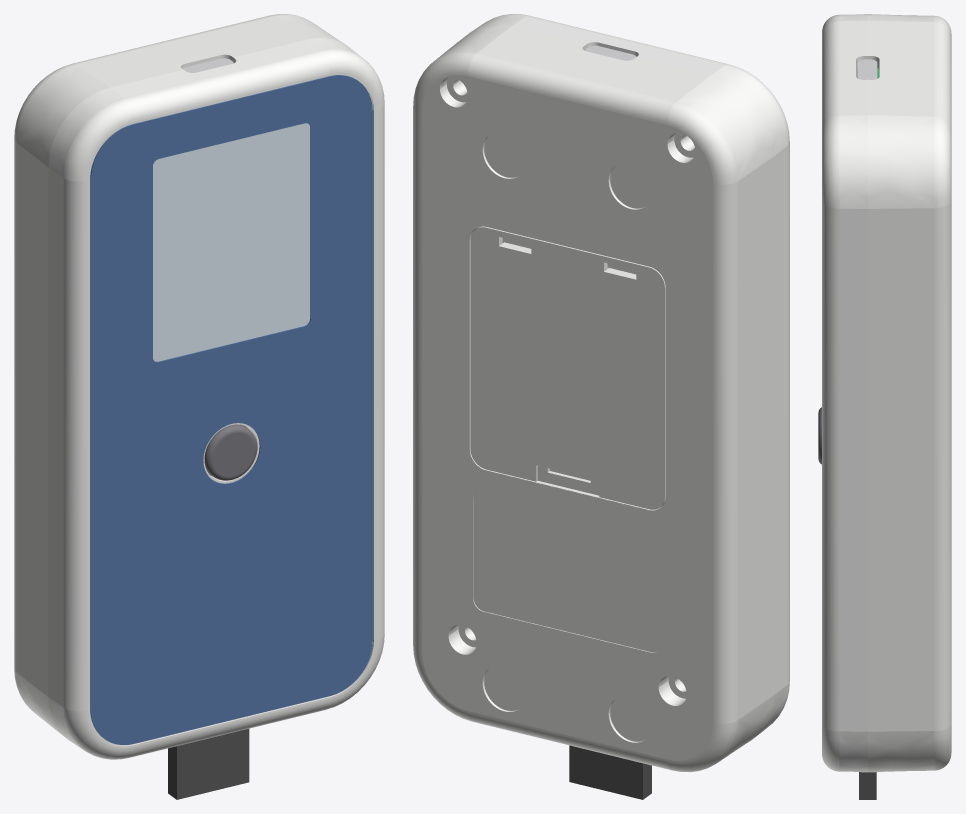
File: .HemoSure_Assembly.step.glb
3 views of the same model, side by side, from view 1: azimuth 30°, elevation 25°; view 2: azimuth 150°, elevation 25°; view 3: azimuth 270°, elevation 25° (orthographic). The views are drawn at different scales.
Parts seen in each view (by area): view 1: o1.7, o1.2, o1.6, o1.1, o1.13, o1.4; view 2: o1.1, o1.3, o1.2, o1.13; view 3: o1.1, o1.2, o1.13, o1.10.
Part boxes in pixels (bbox=[...]): o1.7: bbox=[90, 75, 372, 744]; o1.2: bbox=[48, 38, 384, 759]; o1.6: bbox=[153, 123, 310, 361]; o1.1: bbox=[14, 14, 344, 735]; o1.13: bbox=[168, 728, 249, 799]; o1.4: bbox=[204, 424, 256, 480]; o1.1: bbox=[413, 25, 773, 772]; o1.3: bbox=[470, 226, 665, 509]; o1.2: bbox=[471, 14, 789, 735]; o1.13: bbox=[569, 745, 651, 799]; o1.1: bbox=[868, 14, 951, 772]; o1.2: bbox=[822, 14, 867, 772]; o1.13: bbox=[859, 772, 876, 799]; o1.10: bbox=[858, 59, 877, 79].
Bounding box in the file's own units: 0.062 × 0.134 × 0.0226.
